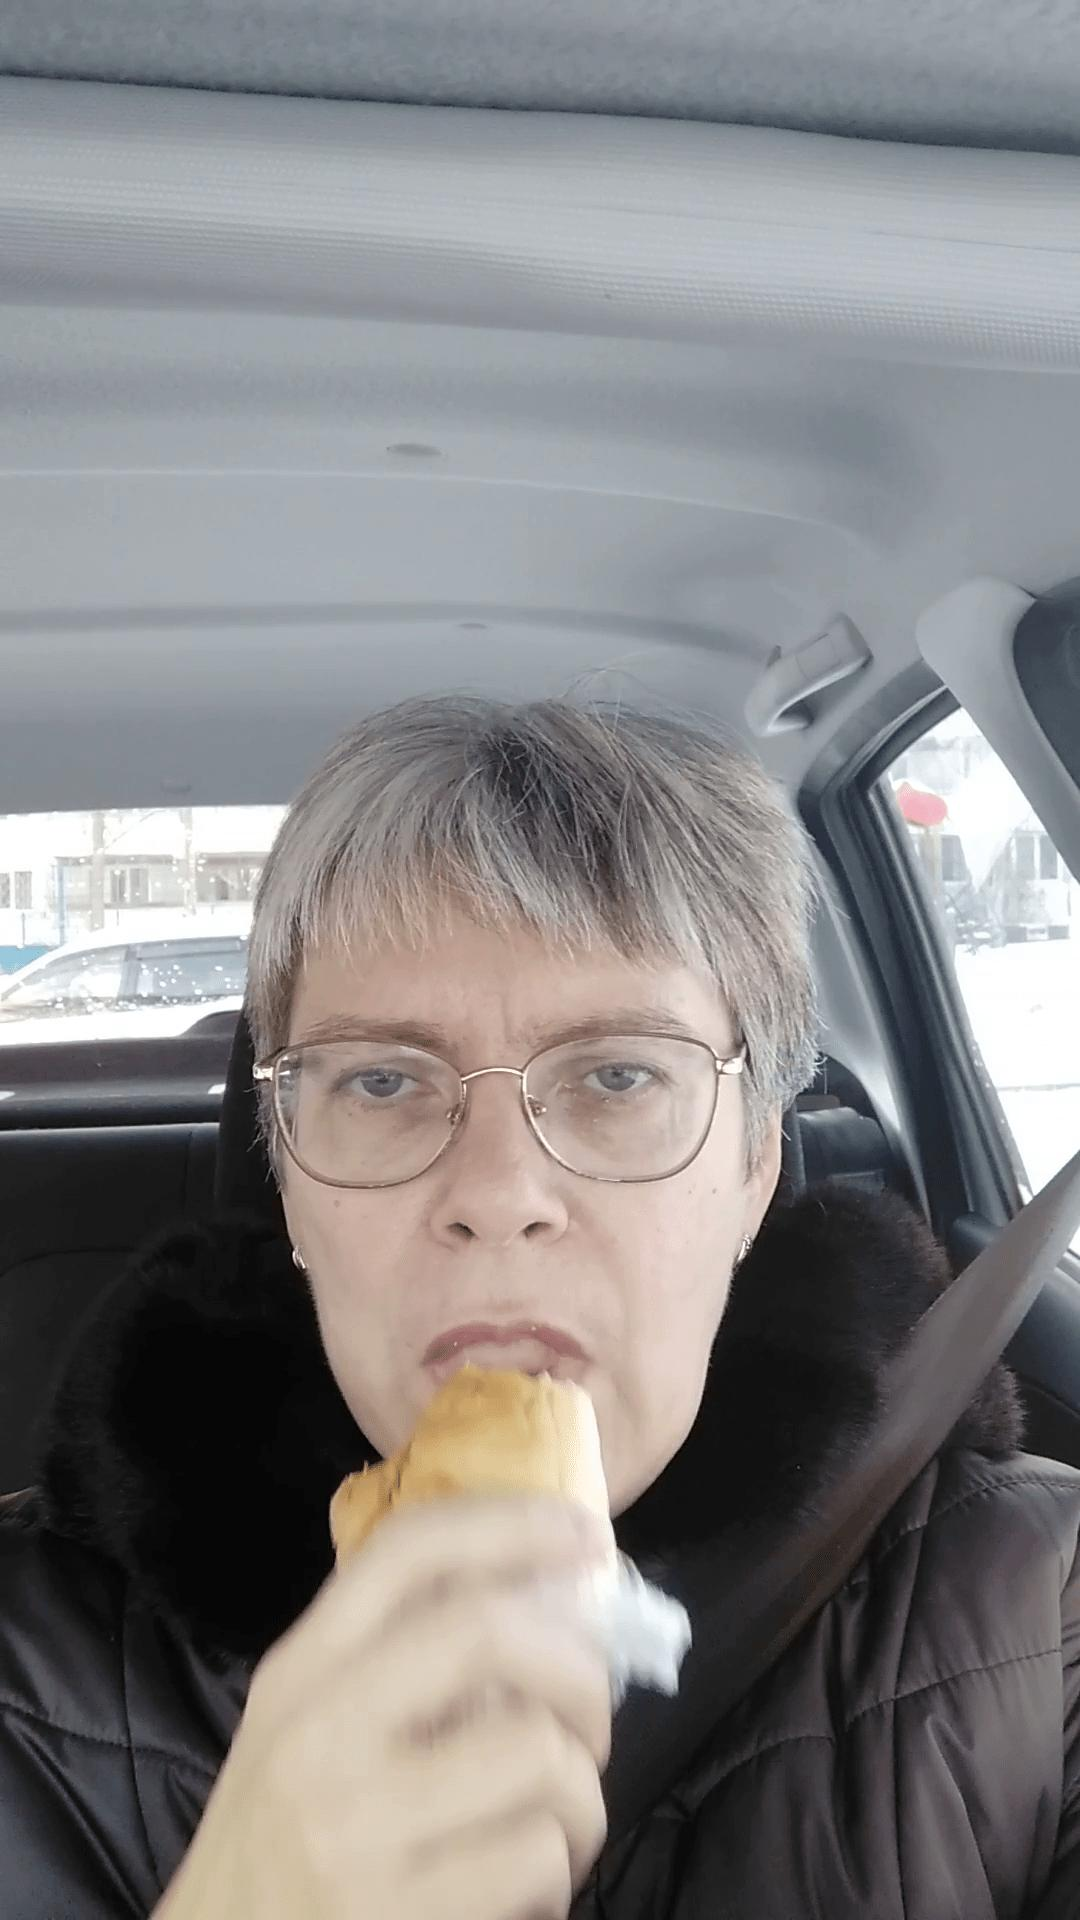Eating: (305, 1304, 696, 1776)
